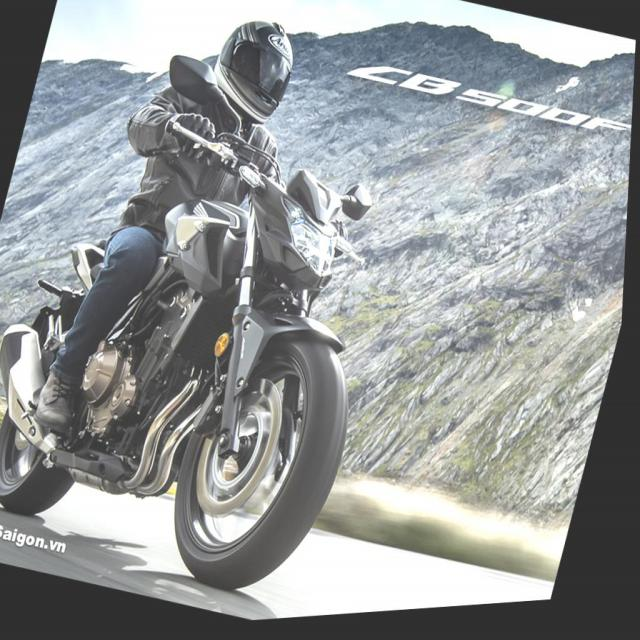CB500F: (0, 15, 435, 635)
